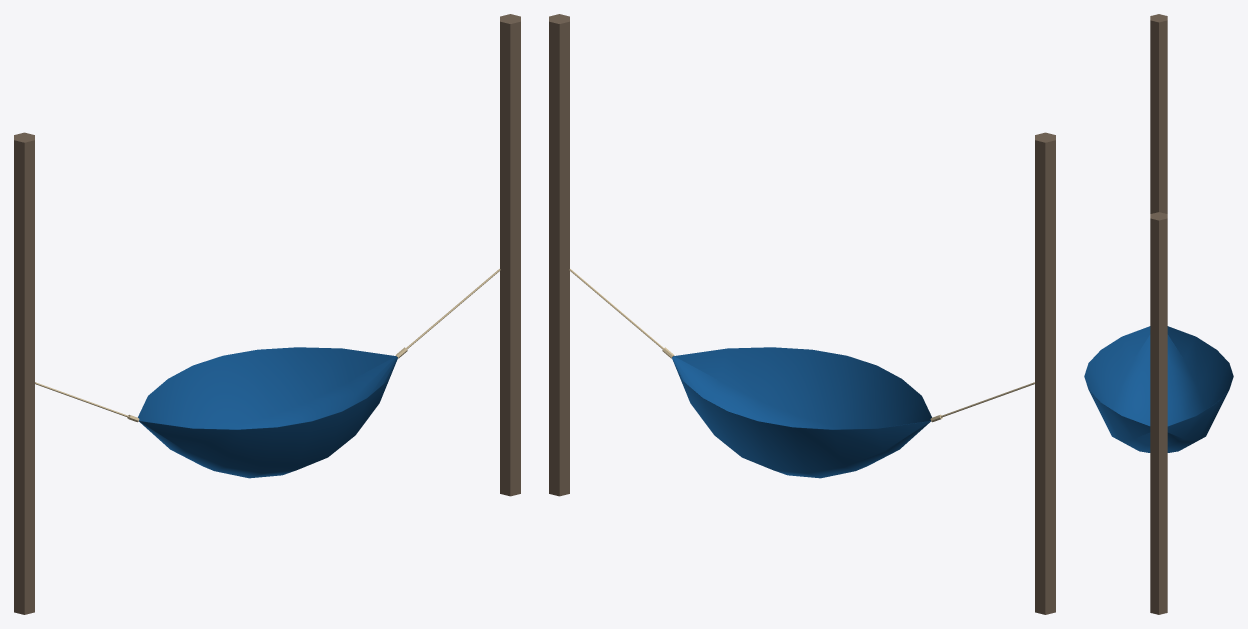
File: vong_luoi_cafe.far.glb
3 views of the same model, side by side, from view 1: azimuth 30°, elevation 25°; view 2: azimuth 150°, elevation 25°; view 3: azimuth 270°, elevation 25° (orthographic). The views are drawn at different scales.
Parts seen in each view (by area): view 1: bed_vong_luoi_cafe, vong_luoi_cafe; view 2: bed_vong_luoi_cafe, vong_luoi_cafe; view 3: bed_vong_luoi_cafe, vong_luoi_cafe.
Boxes of the visible parts, box(x1,y1,x2,y2) form: bed_vong_luoi_cafe: box(35, 269, 500, 478); vong_luoi_cafe: box(14, 14, 520, 614); bed_vong_luoi_cafe: box(569, 269, 1034, 478); vong_luoi_cafe: box(549, 14, 1055, 614); bed_vong_luoi_cafe: box(1084, 326, 1233, 452); vong_luoi_cafe: box(1150, 14, 1167, 614).
Size of the model in its own units: 2.92 by 2.6 by 0.8925.
